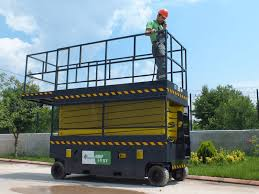Scissor Lift: (22, 28, 191, 187)
